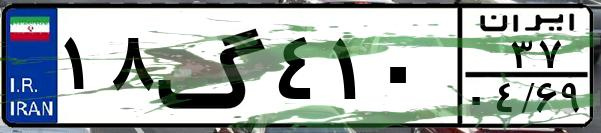0: (385, 28, 445, 110), (470, 70, 495, 125)
1: (330, 28, 385, 110), (57, 26, 110, 100)
3: (508, 27, 537, 80)
4: (270, 28, 330, 110), (495, 70, 520, 125)
6: (535, 70, 560, 125)
7: (537, 27, 568, 80)
8: (110, 28, 156, 98)
9: (560, 70, 590, 125)
گ: (156, 12, 270, 120)
